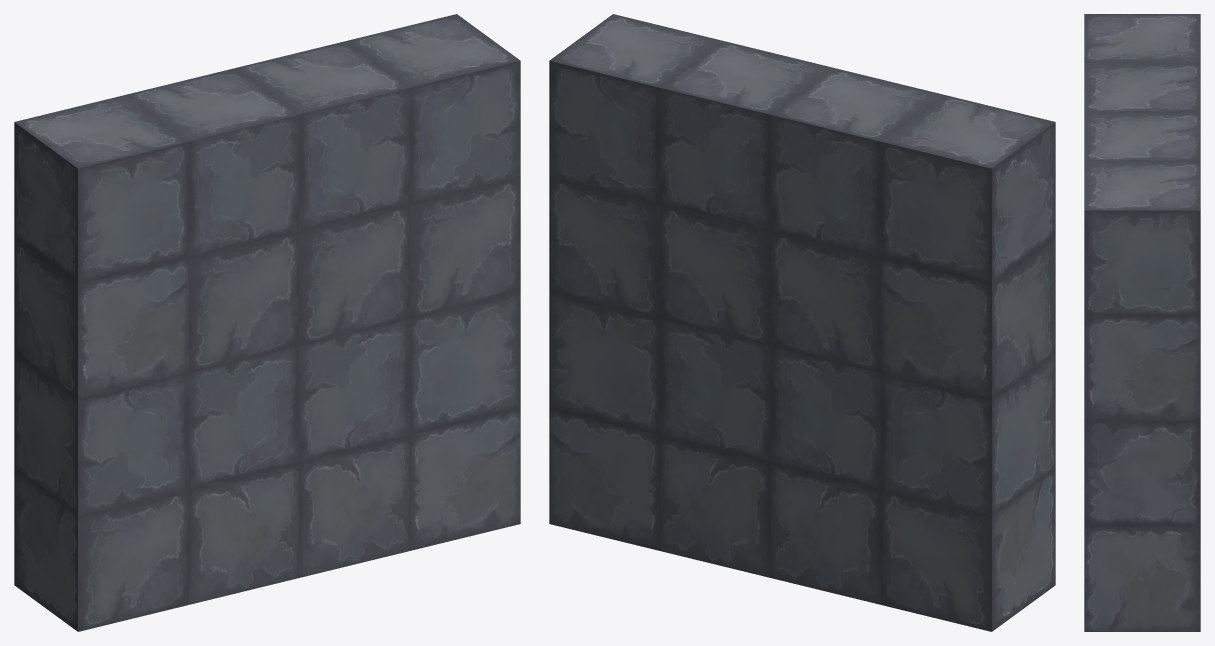
Rendered from Castle Block 4x4.fbx.
3 views of the same model, side by side, from view 1: azimuth 30°, elevation 25°; view 2: azimuth 150°, elevation 25°; view 3: azimuth 270°, elevation 25° (orthographic). The views are drawn at different scales.
Parts seen in each view (by area): view 1: Castle Block 4x4; view 2: Castle Block 4x4; view 3: Castle Block 4x4.
Boxes of the visible parts, x1,y1,x2,y2 form: Castle Block 4x4: (14, 14, 520, 631); Castle Block 4x4: (549, 14, 1055, 631); Castle Block 4x4: (1084, 14, 1200, 631).
Bounding box in the file's own units: 3 × 3 × 0.75.
